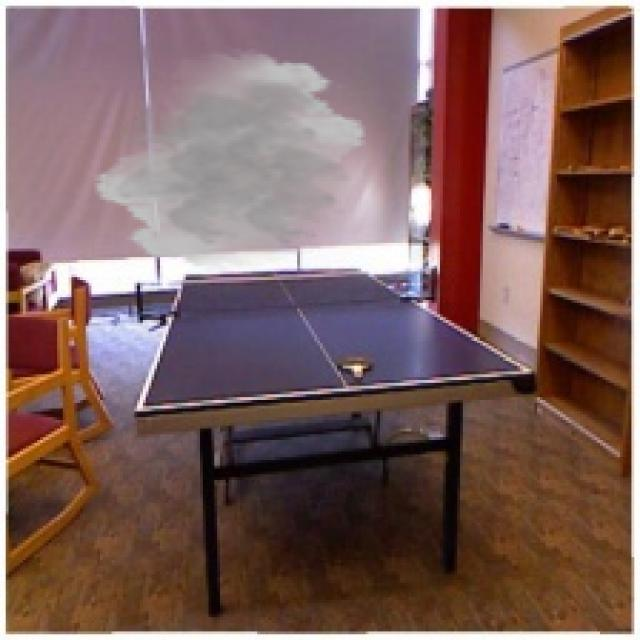smoke: (92, 48, 368, 272)
